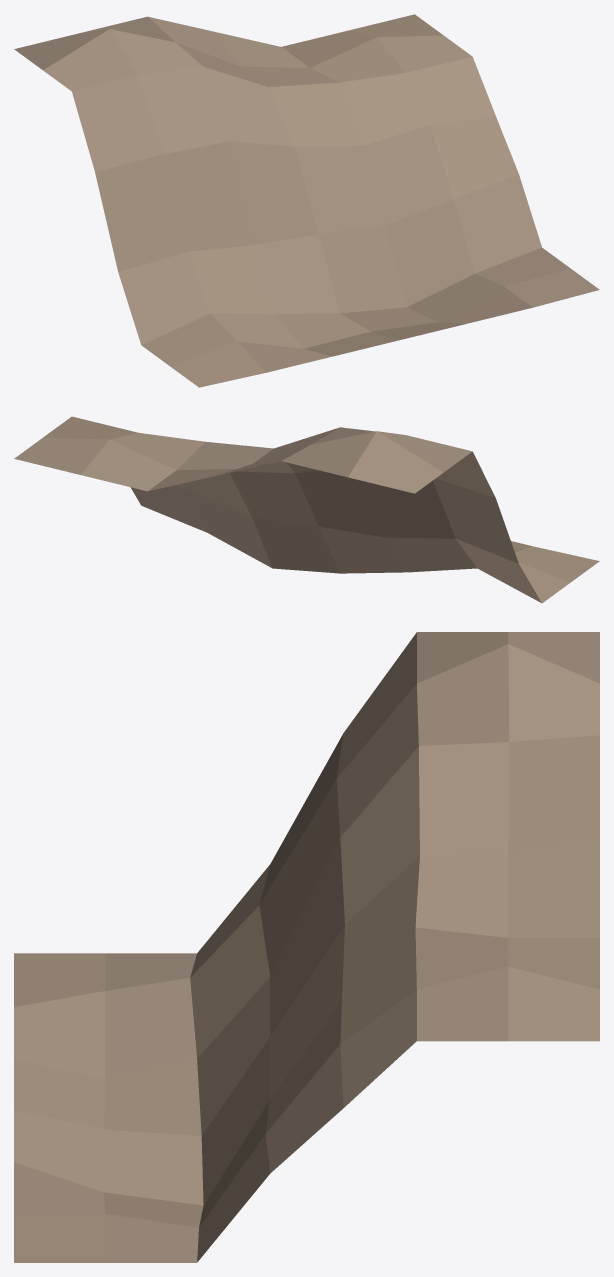
File: Groborchik_RiverBank_Trans_Up3-2.fbx
The picture shows the model from 3 angles, top to bottom: view 1: azimuth 30°, elevation 25°; view 2: azimuth 150°, elevation 25°; view 3: azimuth 270°, elevation 25°; orthographic projection. The views are drawn at different scales.
Parts seen in each view (by area): view 1: Trans_Up3-2; view 2: Trans_Up3-2; view 3: Trans_Up3-2.
Boxes of the visible parts, x1,y1,x2,y2 form: Trans_Up3-2: [14, 14, 599, 387]; Trans_Up3-2: [14, 416, 599, 603]; Trans_Up3-2: [14, 632, 599, 1262].
Bounding box in the file's own units: 1000 × 612 × 800.
